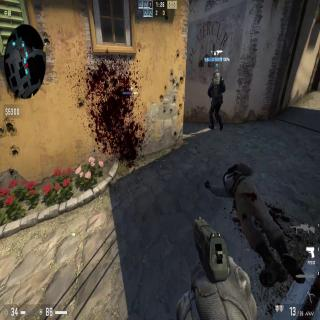CT-Body: (207, 70, 226, 132)
CT-Head: (213, 70, 221, 79)
